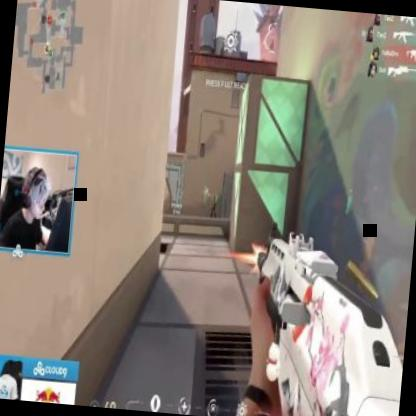enemy: (210, 194, 218, 218)
enemy_head: (214, 195, 217, 200)
